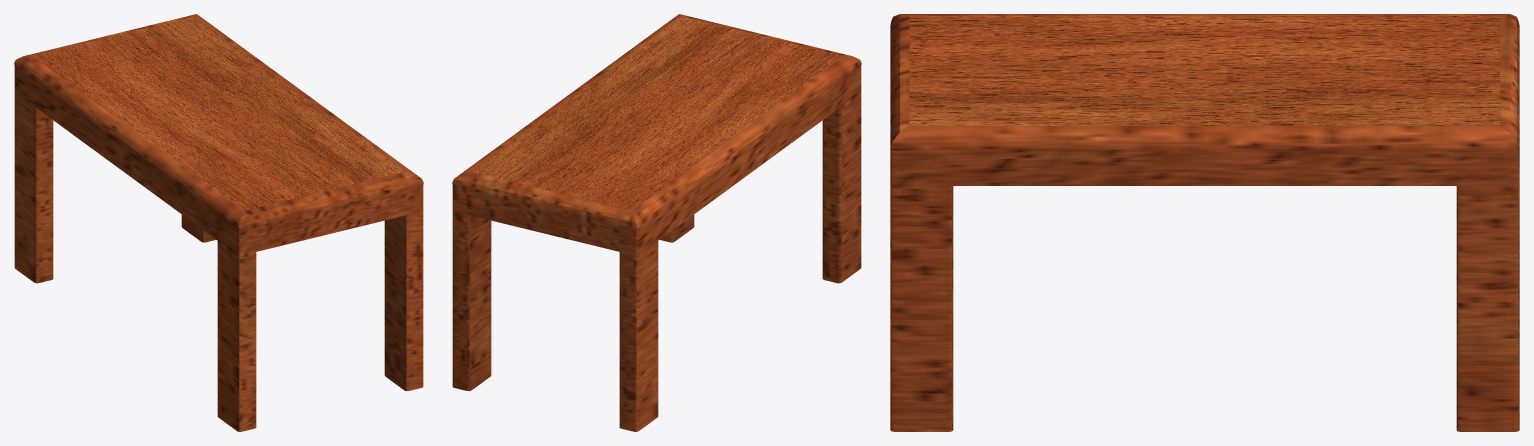
Rendered from Table.fbx.
3 renders of one model, left to right at view 1: azimuth 30°, elevation 25°; view 2: azimuth 150°, elevation 25°; view 3: azimuth 270°, elevation 25°, orthographic. The views are drawn at different scales.
Parts seen in each view (by area): view 1: Table; view 2: Table; view 3: Table.
Part boxes in pixels (x1,y1,x2,y2): Table: (14,14,423,431); Table: (452,14,861,431); Table: (890,14,1519,431).
Bounding box in the file's own units: 102 × 112 × 215.
